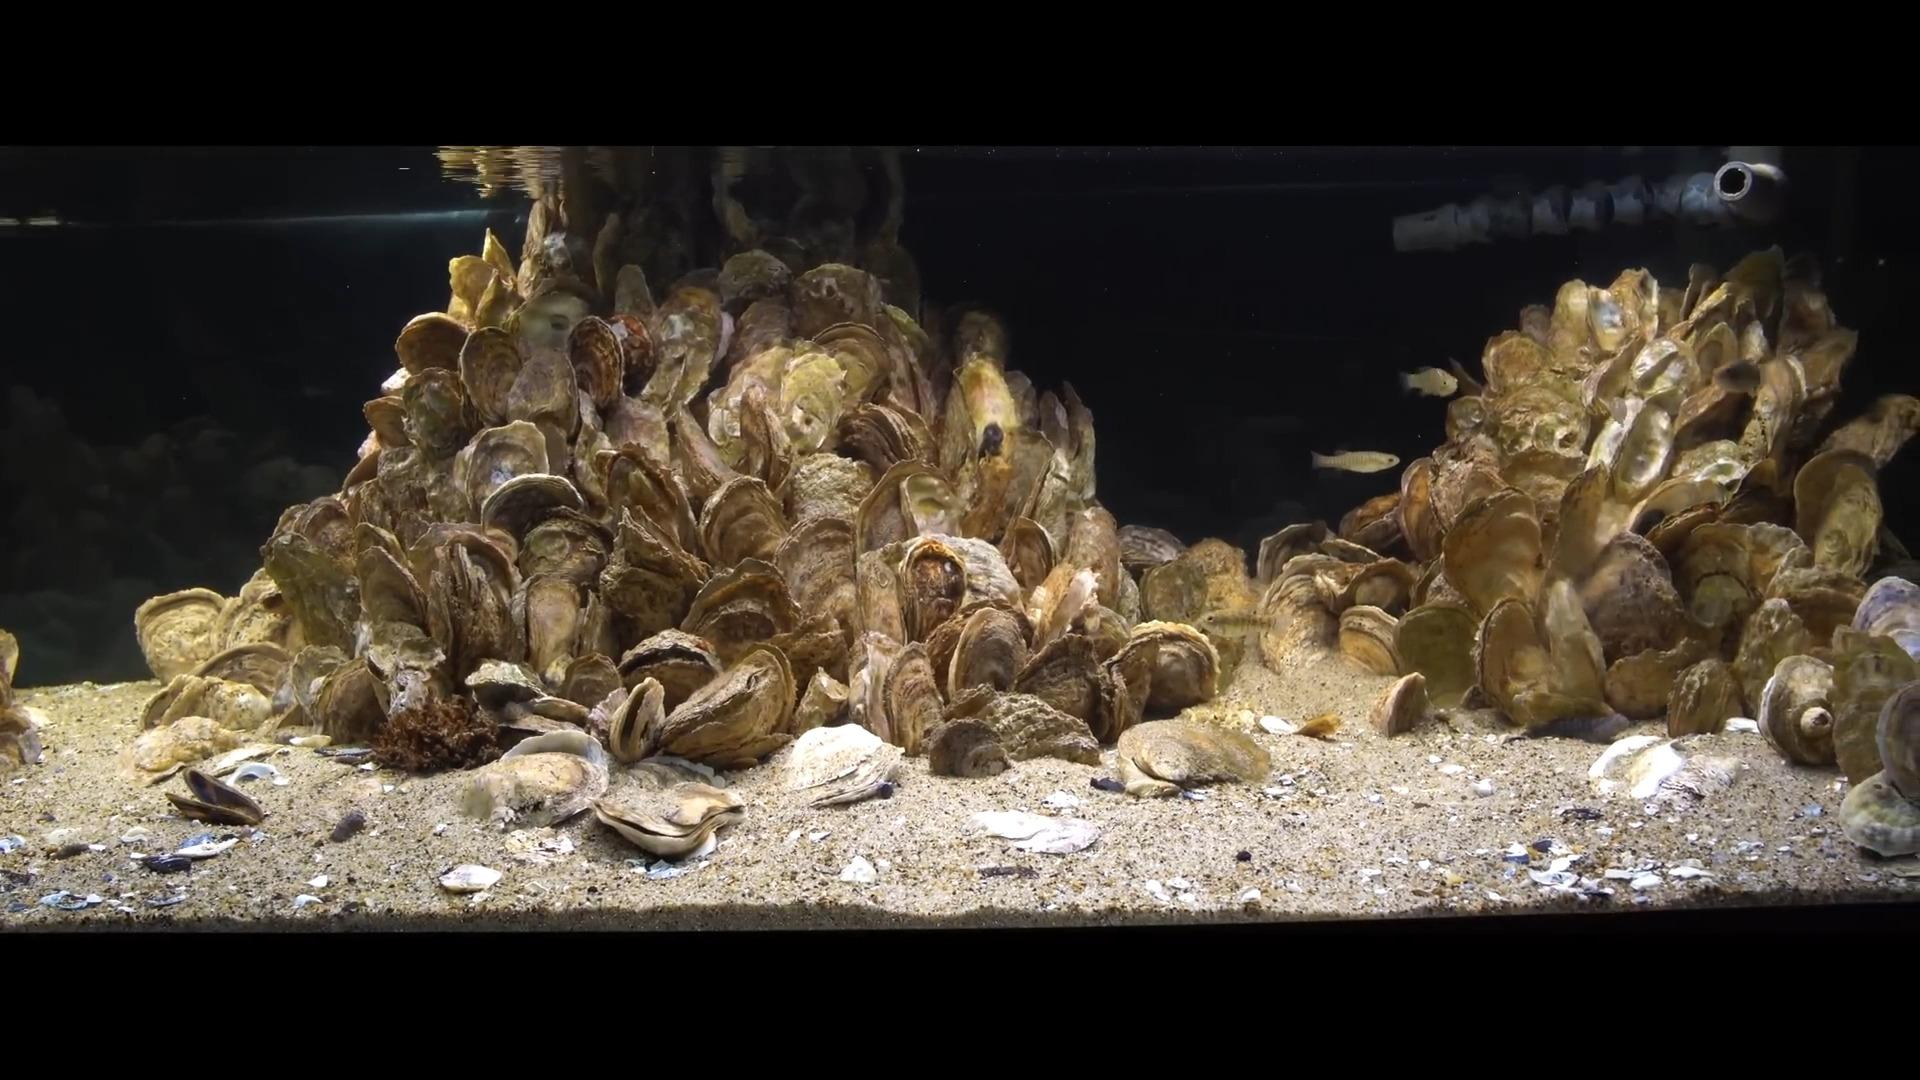Oyster: (1473, 582, 1611, 735), (649, 649, 794, 766), (1576, 531, 1689, 661), (1671, 520, 1801, 632), (258, 521, 364, 658), (1440, 488, 1547, 622), (1822, 636, 1916, 782), (1021, 384, 1100, 555), (426, 535, 517, 682), (1788, 447, 1888, 574), (890, 530, 1025, 621), (678, 559, 791, 663), (775, 721, 907, 810), (773, 508, 864, 636), (1547, 458, 1631, 593), (971, 418, 1060, 545), (599, 446, 695, 562), (1733, 593, 1824, 716), (963, 690, 1102, 769), (1010, 625, 1114, 731), (129, 585, 233, 688), (853, 458, 952, 564), (1110, 621, 1215, 721), (800, 318, 906, 417), (1481, 380, 1594, 469), (351, 529, 433, 651), (596, 545, 696, 644), (135, 673, 278, 738), (698, 472, 790, 574), (1696, 244, 1788, 345), (1394, 605, 1485, 708), (1756, 654, 1840, 766), (1807, 396, 1920, 477), (1141, 537, 1246, 624), (1762, 567, 1869, 653), (940, 604, 1033, 703), (1602, 641, 1712, 723), (670, 398, 750, 509), (618, 629, 723, 709), (592, 800, 732, 860), (311, 650, 394, 748), (516, 504, 613, 587), (600, 388, 687, 480), (129, 716, 253, 781), (520, 568, 588, 684), (1021, 556, 1100, 657), (878, 640, 947, 754), (1055, 502, 1124, 616), (218, 578, 297, 673), (783, 450, 878, 529), (1429, 447, 1511, 538), (501, 336, 579, 431), (361, 633, 446, 717), (458, 324, 526, 427), (1262, 566, 1346, 649), (1746, 351, 1807, 465), (1627, 472, 1731, 538), (787, 260, 878, 335), (401, 365, 471, 463), (1667, 657, 1749, 740), (836, 401, 922, 480), (190, 642, 293, 707), (481, 473, 582, 539), (277, 644, 353, 729), (589, 676, 665, 764), (393, 311, 476, 381), (856, 628, 907, 740), (567, 315, 625, 414), (1785, 327, 1858, 405), (926, 717, 1013, 781), (165, 773, 265, 827), (1336, 604, 1406, 678), (1669, 378, 1745, 446), (553, 649, 629, 715), (1602, 265, 1659, 353), (1394, 458, 1440, 559), (715, 248, 796, 305), (1338, 491, 1408, 556), (1257, 521, 1331, 583), (1342, 559, 1418, 620), (1625, 335, 1691, 402), (604, 313, 657, 389), (1116, 521, 1184, 574)
